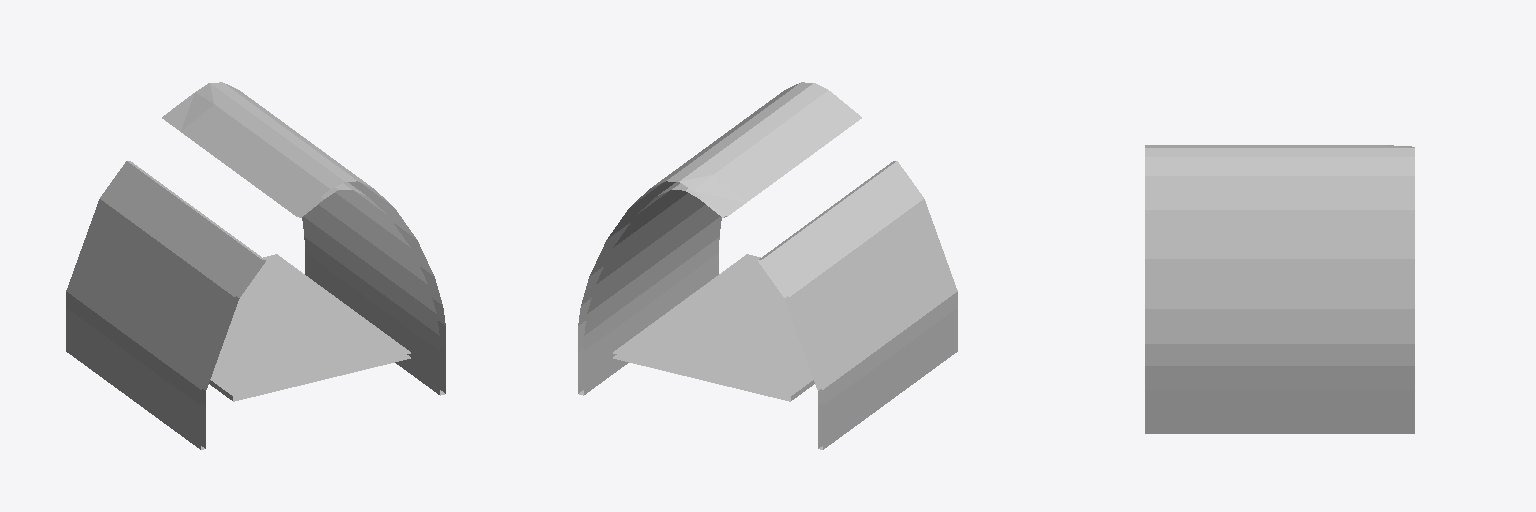
The model's file is corridor_Scene.obj.
The picture shows the model from 3 angles: view 1: azimuth 30°, elevation 25°; view 2: azimuth 150°, elevation 25°; view 3: azimuth 270°, elevation 25°; orthographic projection.
Visible parts, largest first — view 1: Vault_Mesh, Floor_Cube; view 2: Vault_Mesh, Floor_Cube; view 3: Vault_Mesh.
Part boxes in pixels (left/top/right/bottom): Vault_Mesh: left=66, top=82, right=445, bottom=449; Floor_Cube: left=209, top=254, right=411, bottom=401; Vault_Mesh: left=578, top=82, right=957, bottom=449; Floor_Cube: left=612, top=254, right=814, bottom=401; Vault_Mesh: left=1145, top=145, right=1414, bottom=433.
Size of the model in its own units: 17.5 by 16.17 by 16.73.